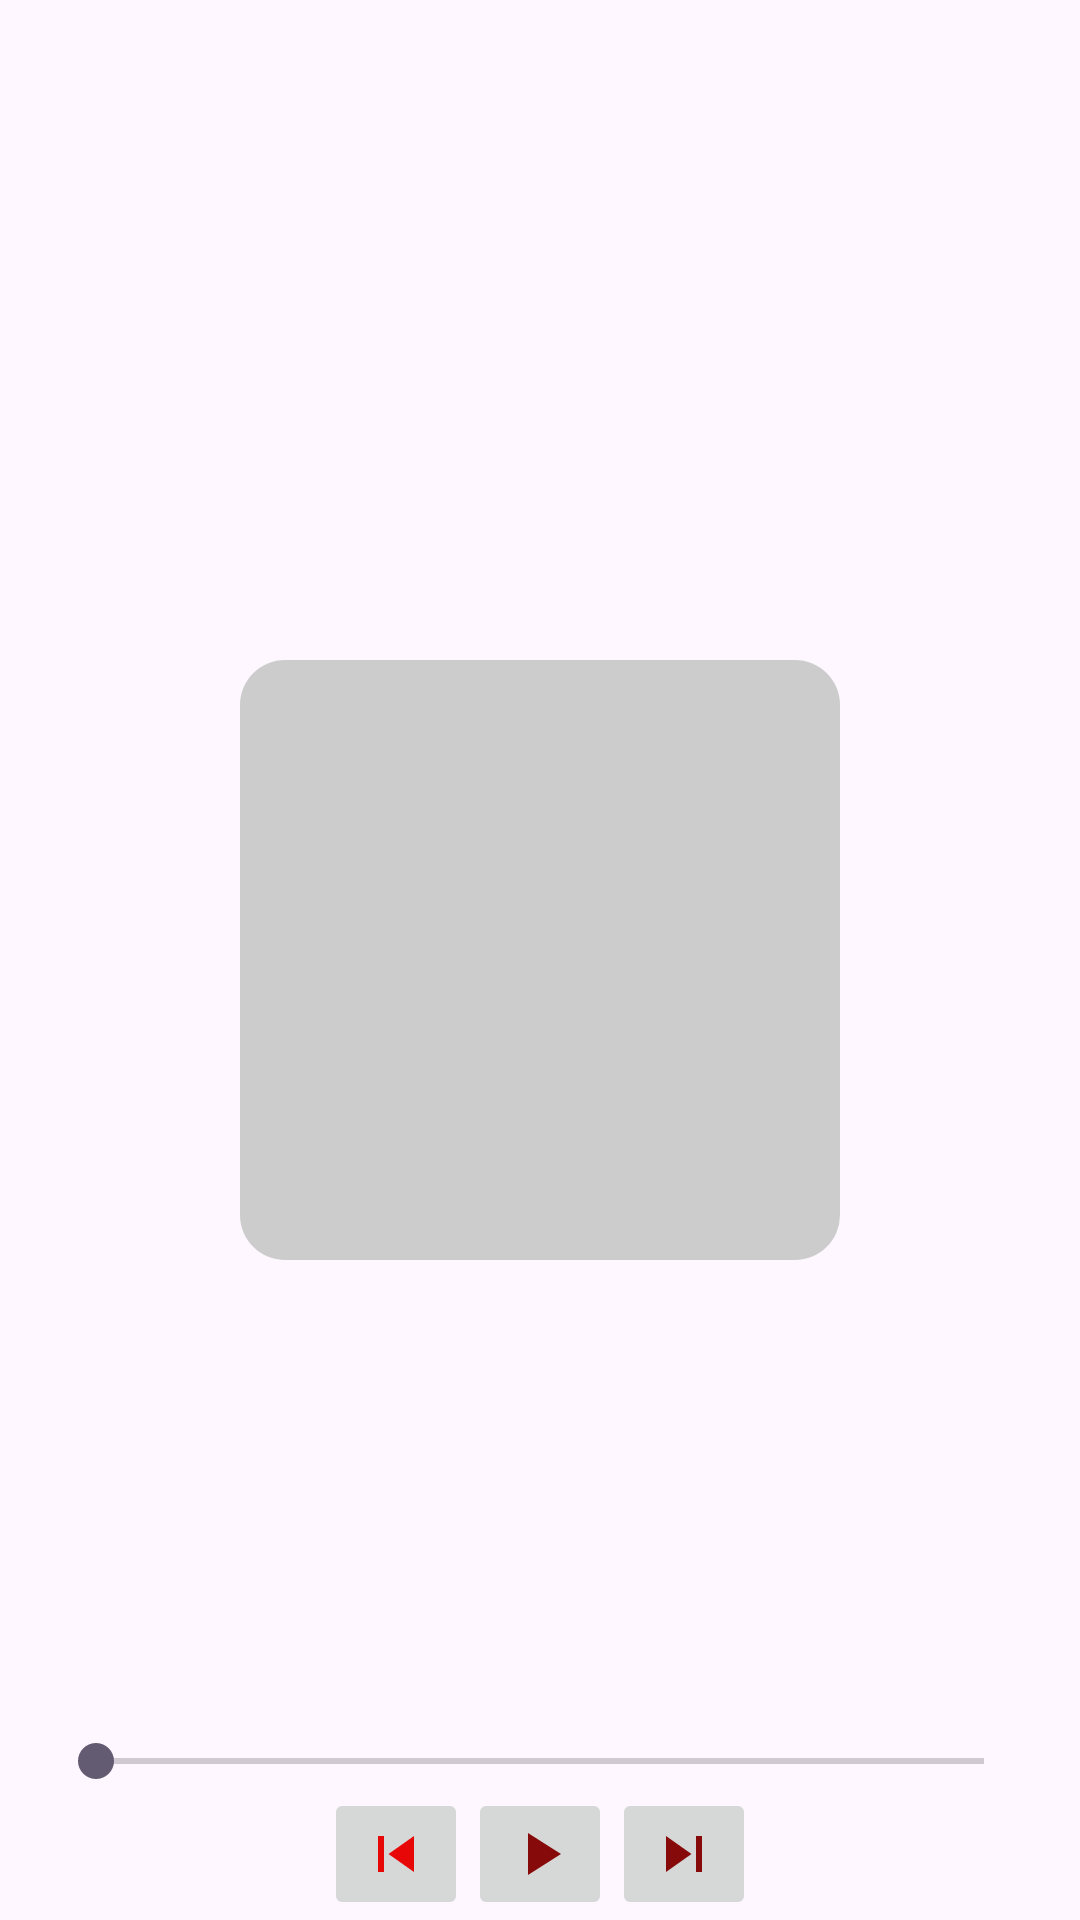

Icon bounding boxes for this 1080×1920 phone screenshot, format (x1, y1, x2, y2):
next: (624, 1806, 744, 1902)
play: (480, 1806, 600, 1902)
previous: (336, 1806, 456, 1902)
